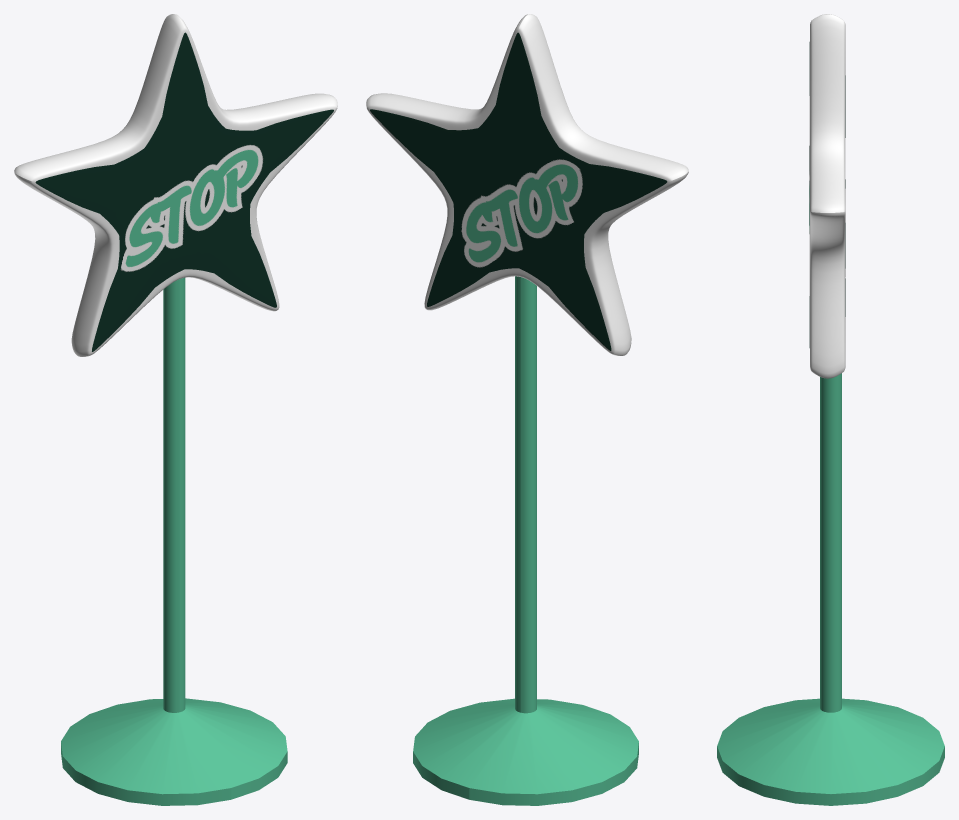
The model's file is señal.fbx.
3 renders of one model, left to right at view 1: azimuth 30°, elevation 25°; view 2: azimuth 150°, elevation 25°; view 3: azimuth 270°, elevation 25°, orthographic.
Visible parts, largest first — view 1: Icosphere.001; view 2: Icosphere.001; view 3: Icosphere.001.
Boxes of the visible parts, x1,y1,x2,y2 form: Icosphere.001: (14, 14, 337, 805); Icosphere.001: (366, 14, 688, 805); Icosphere.001: (717, 14, 944, 805).
Bounding box in the file's own units: 1.21 × 2.71 × 0.7533.
1 material, 1 textured.
